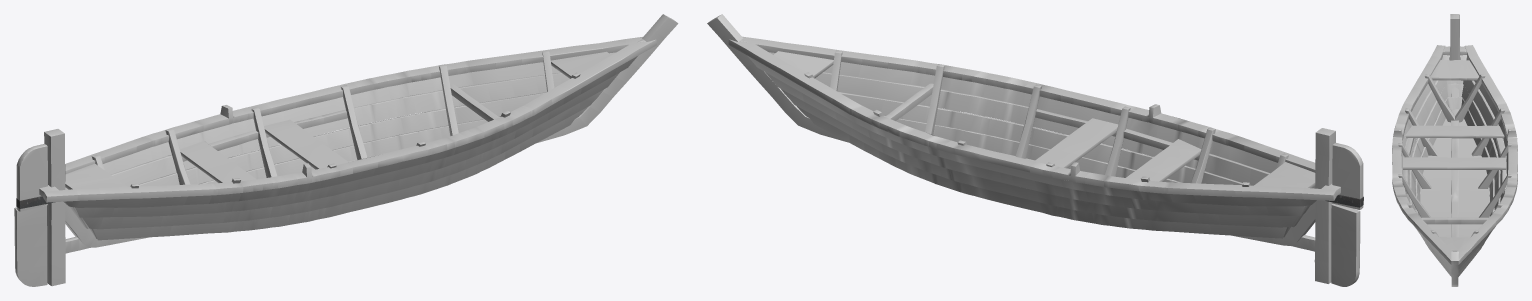
File: SM_Boat.fbx
3 views of the same model, side by side, from view 1: azimuth 30°, elevation 25°; view 2: azimuth 150°, elevation 25°; view 3: azimuth 270°, elevation 25° (orthographic). The views are drawn at different scales.
Parts seen in each view (by area): view 1: SM_Boat_LOD0; view 2: SM_Boat_LOD0; view 3: SM_Boat_LOD0.
Boxes of the visible parts, x1,y1,x2,y2 form: SM_Boat_LOD0: [14, 14, 678, 286]; SM_Boat_LOD0: [707, 14, 1363, 286]; SM_Boat_LOD0: [1392, 14, 1517, 286].
Size of the model in its own units: 688 by 160 by 150.
Materials: 2 (1 with a texture image).
